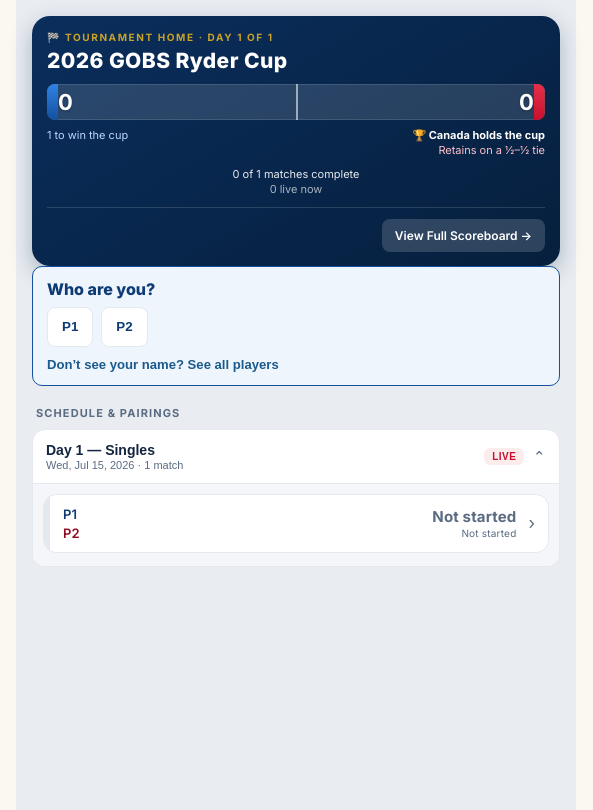
Test case: tournament landing › device memory: Who-are-you → pick stores identity → Go to your match → Switch resets
The image size is (593, 810).
Check: the element with test id "who-are-you" is shown, box [32,266,560,386]
// Pick P1 → identity stored → one-tap Go to your match (the match P1 is in).
Click the button with test id "whoami-1" at {"x": 70, "y": 327}, box [47,307,93,347]
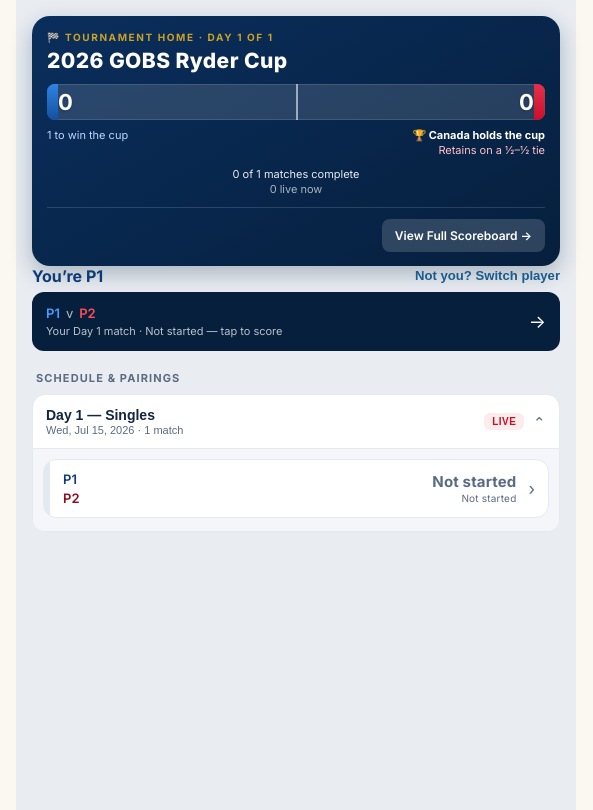
Check: the element with test id "device-identity" is shown, box [32,266,560,351]
// Switch player → back to the picker, storage cleared.
Click the button with test id "switch-player" at {"x": 488, "y": 276}, box [415,268,560,283]
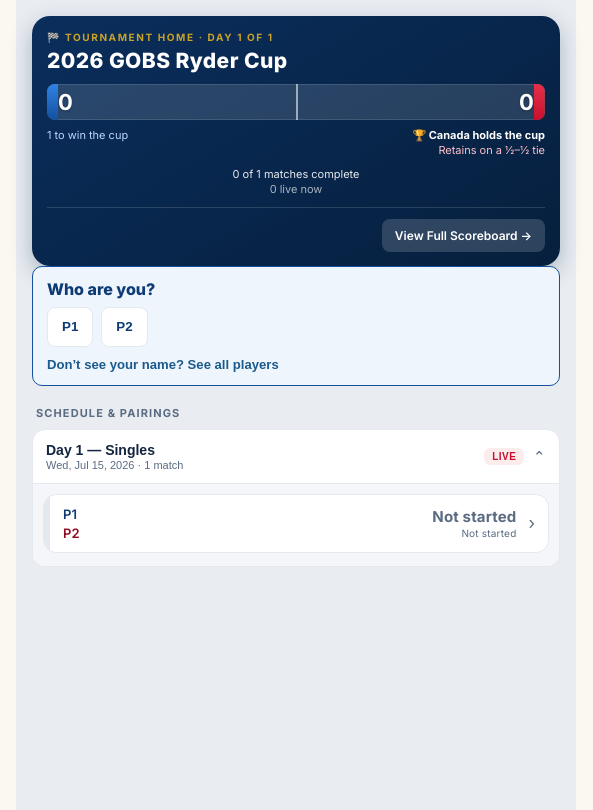
Check: the element with test id "who-are-you" is shown, box [32,266,560,386]
